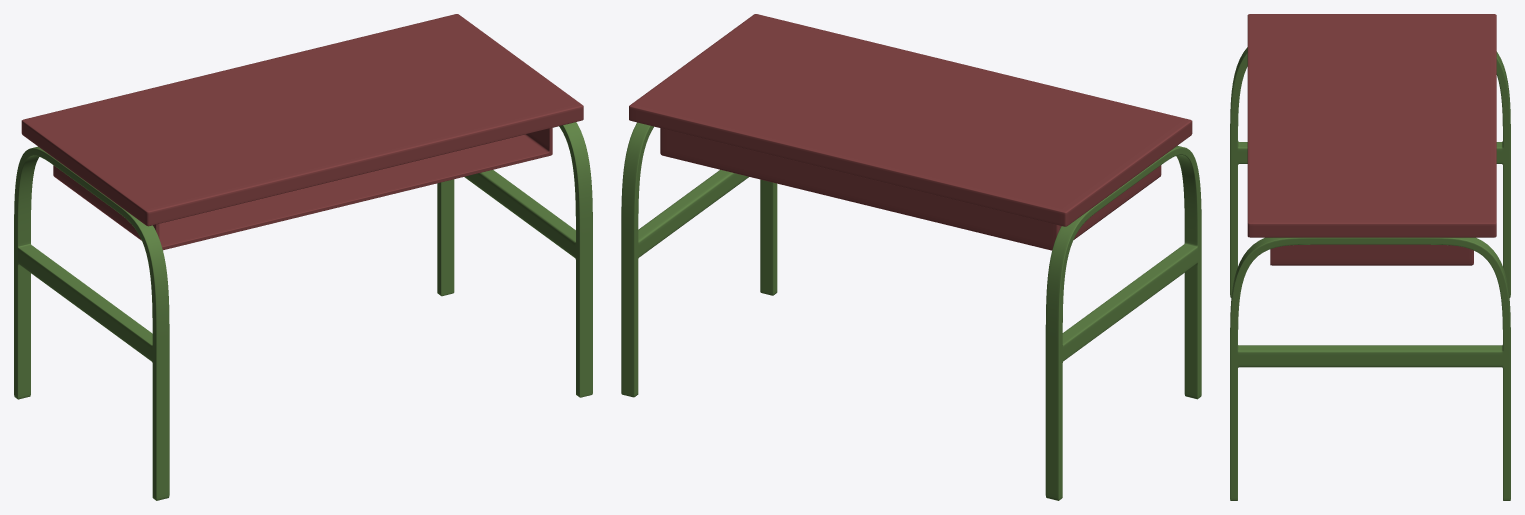
File: StudentDesk_001.fbx
3 views of the same model, side by side, from view 1: azimuth 30°, elevation 25°; view 2: azimuth 150°, elevation 25°; view 3: azimuth 270°, elevation 25° (orthographic).
Parts seen in each view (by area): view 1: sTableMain_High, sStand2_High, sStand_High; view 2: sTableMain_High, sStand2_High, sStand_High; view 3: sTableMain_High, sStand_High, sStand2_High.
Part boxes in pixels (x1,y1,x2,y2): sTableMain_High: (21, 14, 583, 250); sStand2_High: (14, 146, 169, 500); sStand_High: (437, 122, 592, 397); sTableMain_High: (629, 14, 1192, 250); sStand2_High: (1045, 145, 1201, 500); sStand_High: (621, 122, 777, 397); sTableMain_High: (1247, 14, 1496, 265); sStand_High: (1230, 237, 1510, 500); sStand2_High: (1230, 47, 1510, 297).
Bounding box in the file's own units: 3.61 × 2.23 × 2.04.
